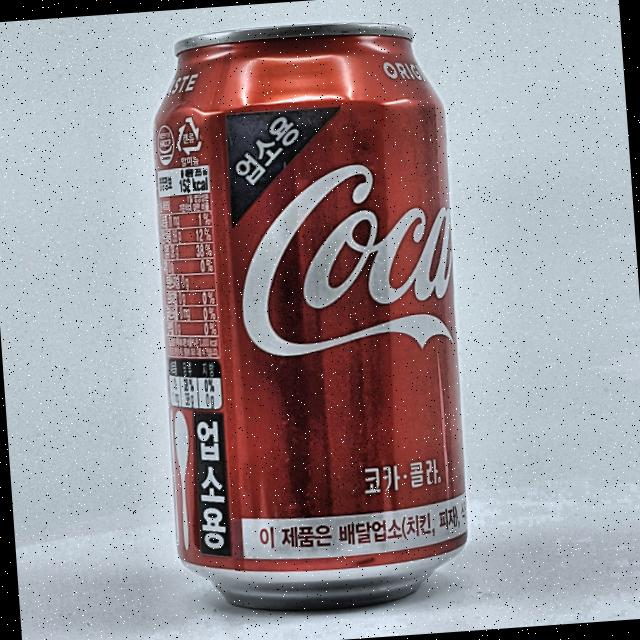cocacola: (157, 9, 476, 614)
